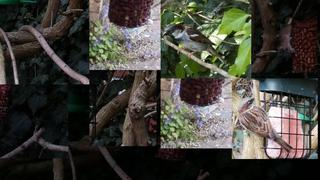mouse: (277, 24, 293, 53)
sparrow: (238, 97, 294, 153), (162, 24, 227, 65)
